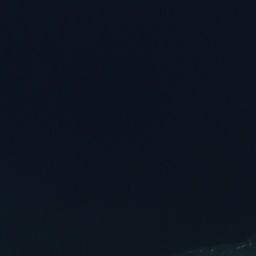Marine Debris: (236, 241, 253, 251)
